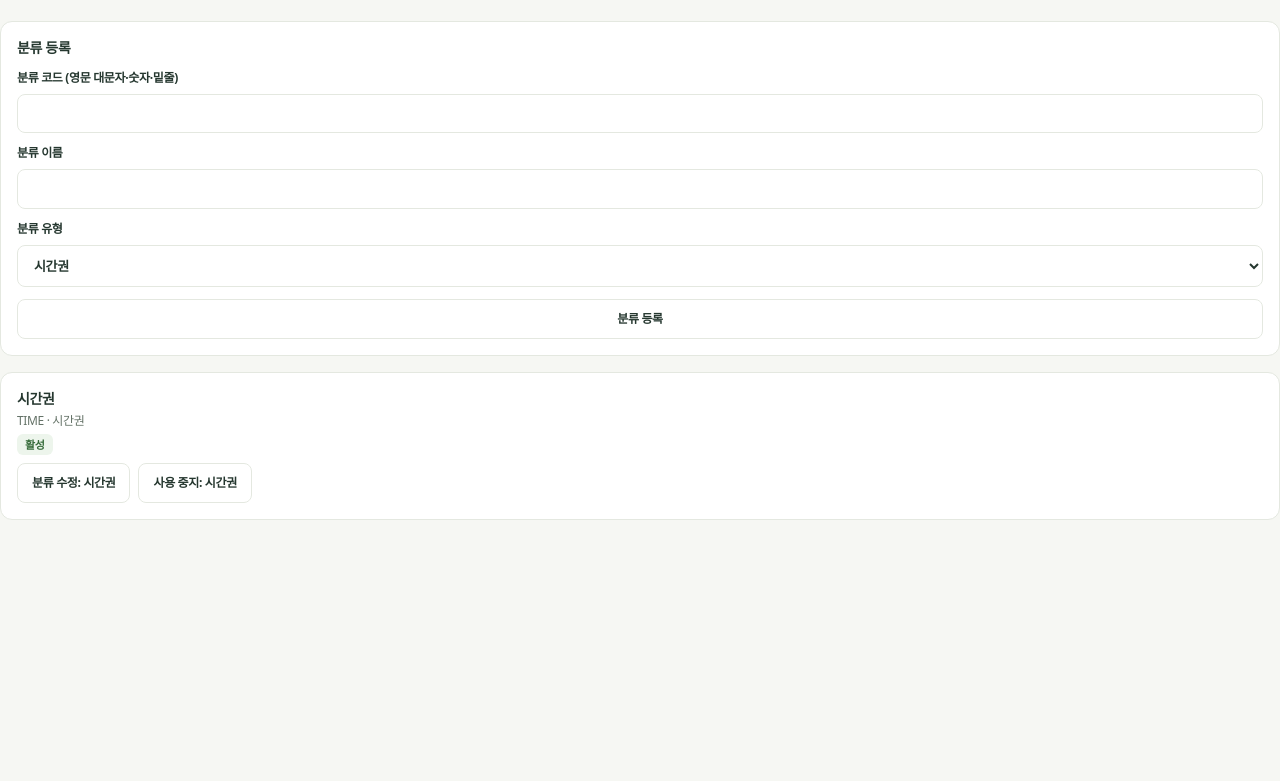
Scenario: preserves a conflicted draft and saves its name against the explicitly loaded version only
The width and height of the screenshot is (1280, 781).
Click the button "분류 수정: 시간권" at x=74, y=483, box [17,463,130,503]
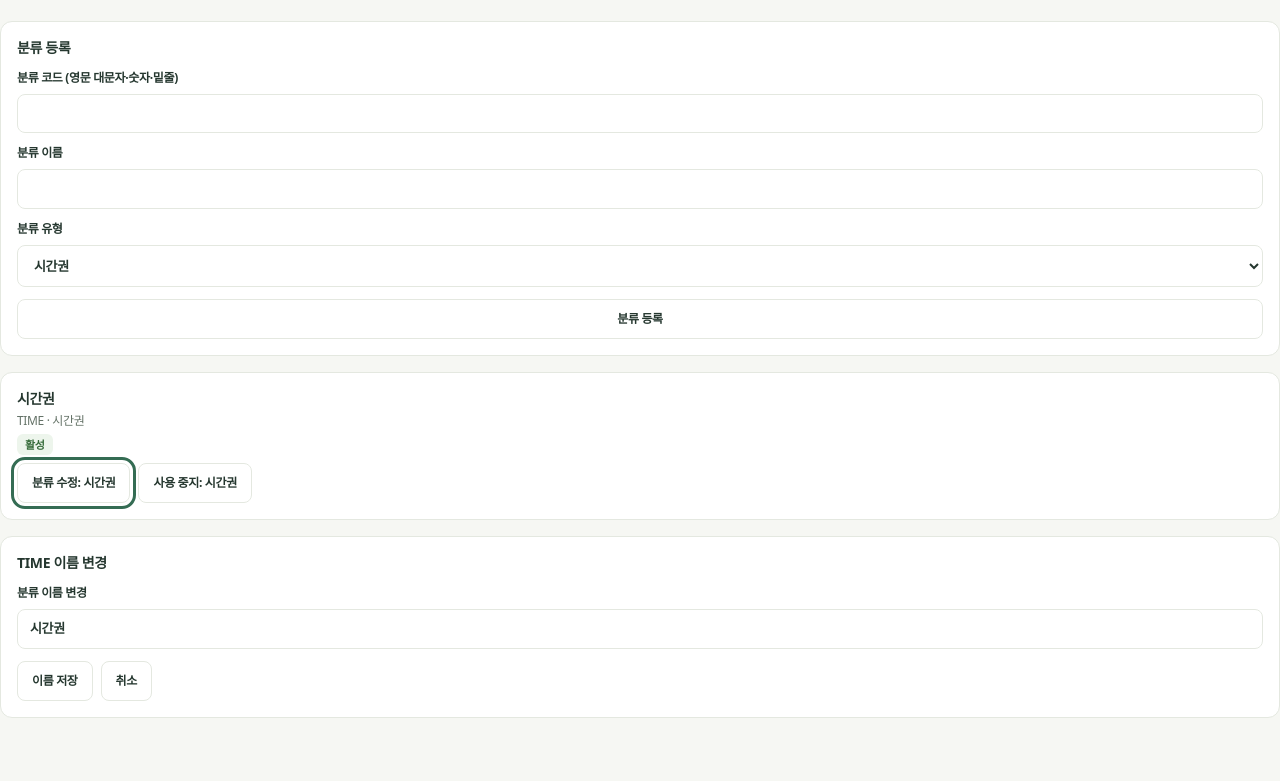
Replace the text in the field labelled "분류 이름 변경" with "내가 작성한 이름" at x=640, y=629, box [17,609,1263,649]
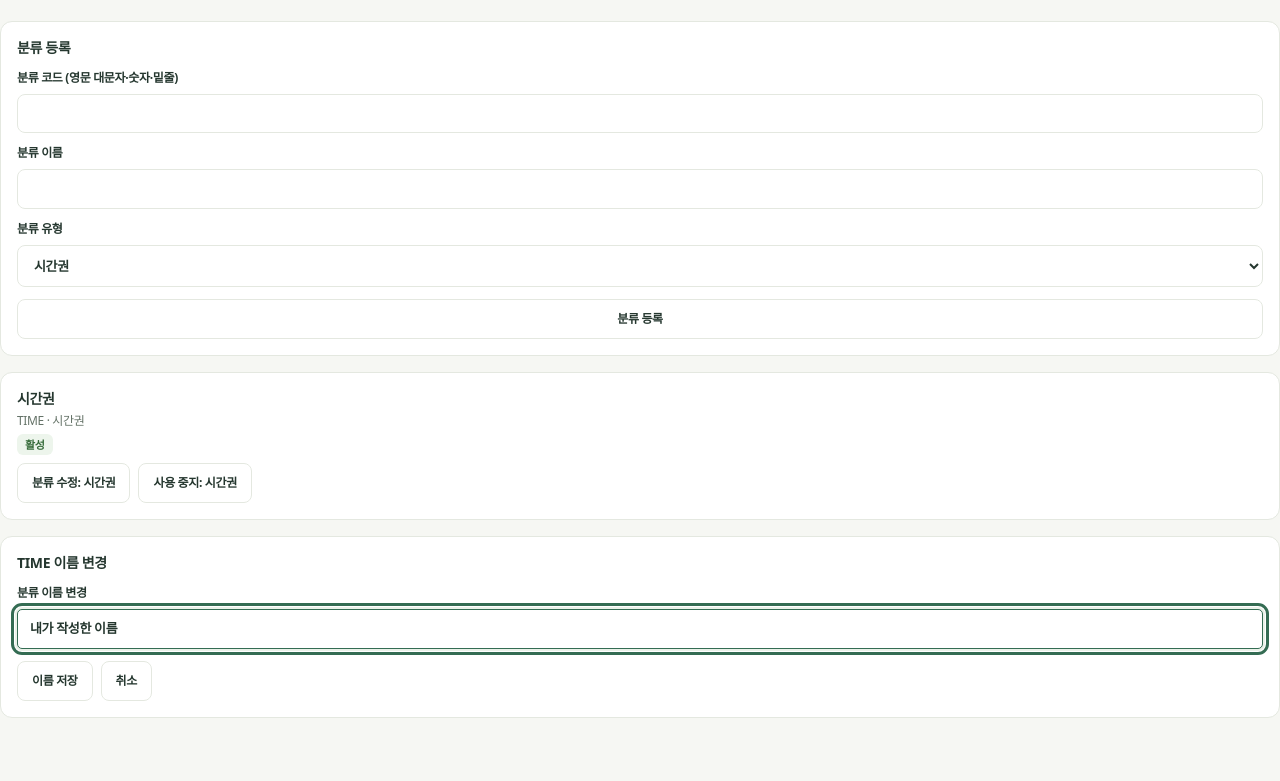
Click the button "이름 저장" at x=55, y=681, box [17,661,92,701]
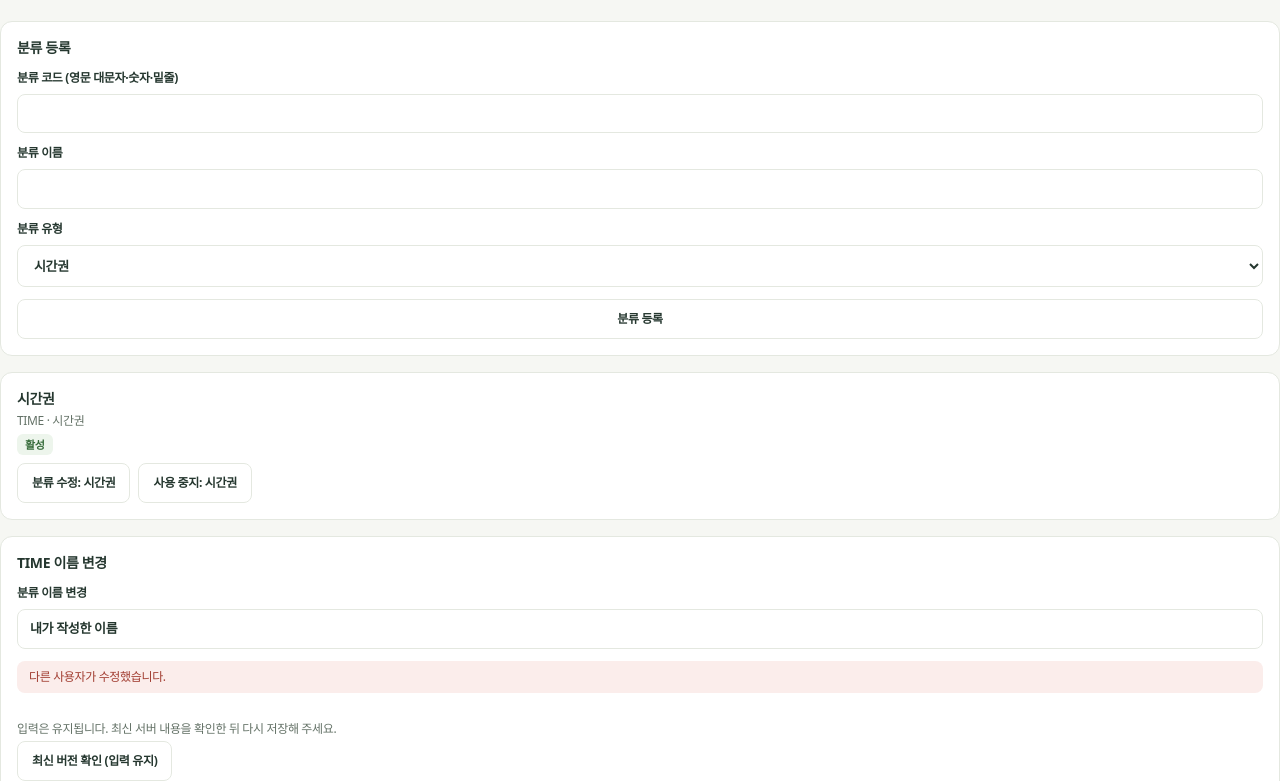
Now the text "다른 사용자가 수정했습니다." is shown, box [17,661,1263,693]
Click the button "최신 버전 확인 (입력 유지)" at x=95, y=761, box [17,741,172,780]
(page scrolled)
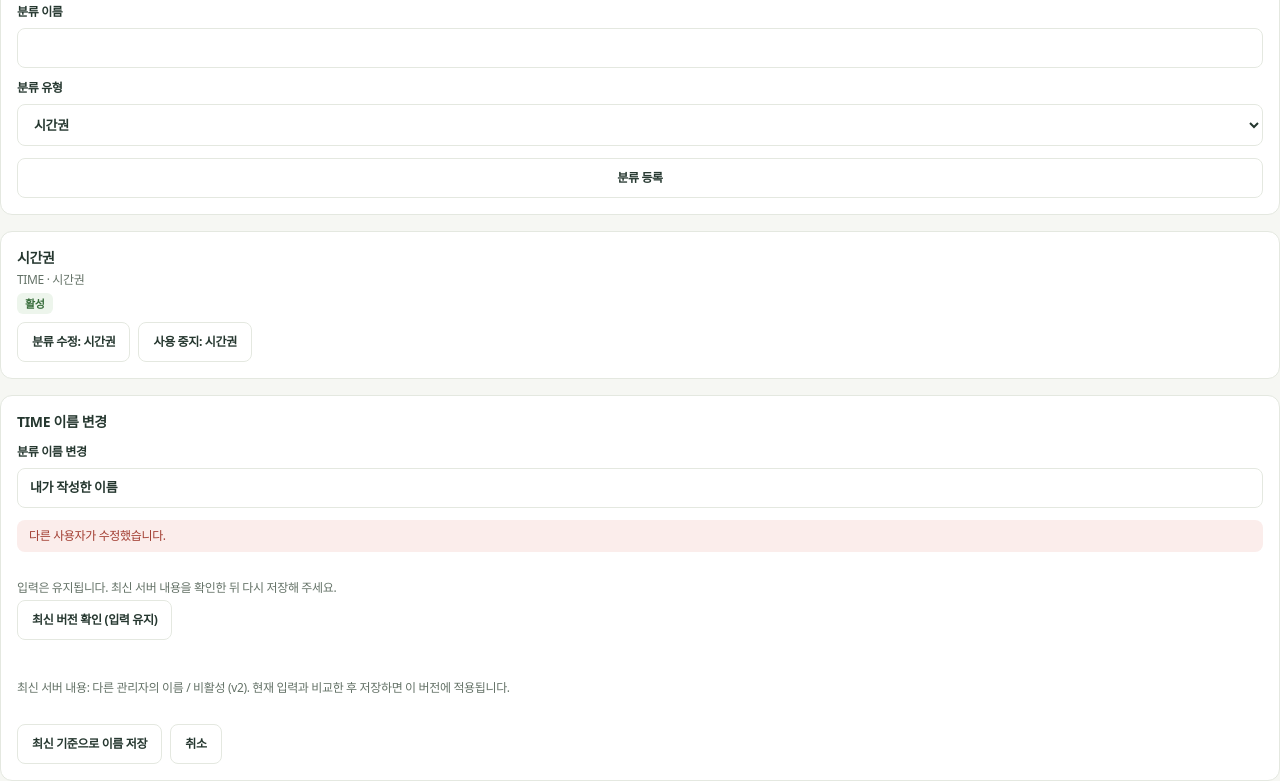
Now the message "최신 서버 내용: 다른 관리자의 이름 / 비활성 (v2). 현재 입력과 비교한 후 저장하면 이 버전에 적용됩니다." is shown, box [17,679,510,696]
Click the button "최신 기준으로 이름 저장" at x=90, y=744, box [17,724,162,764]
(page scrolled)
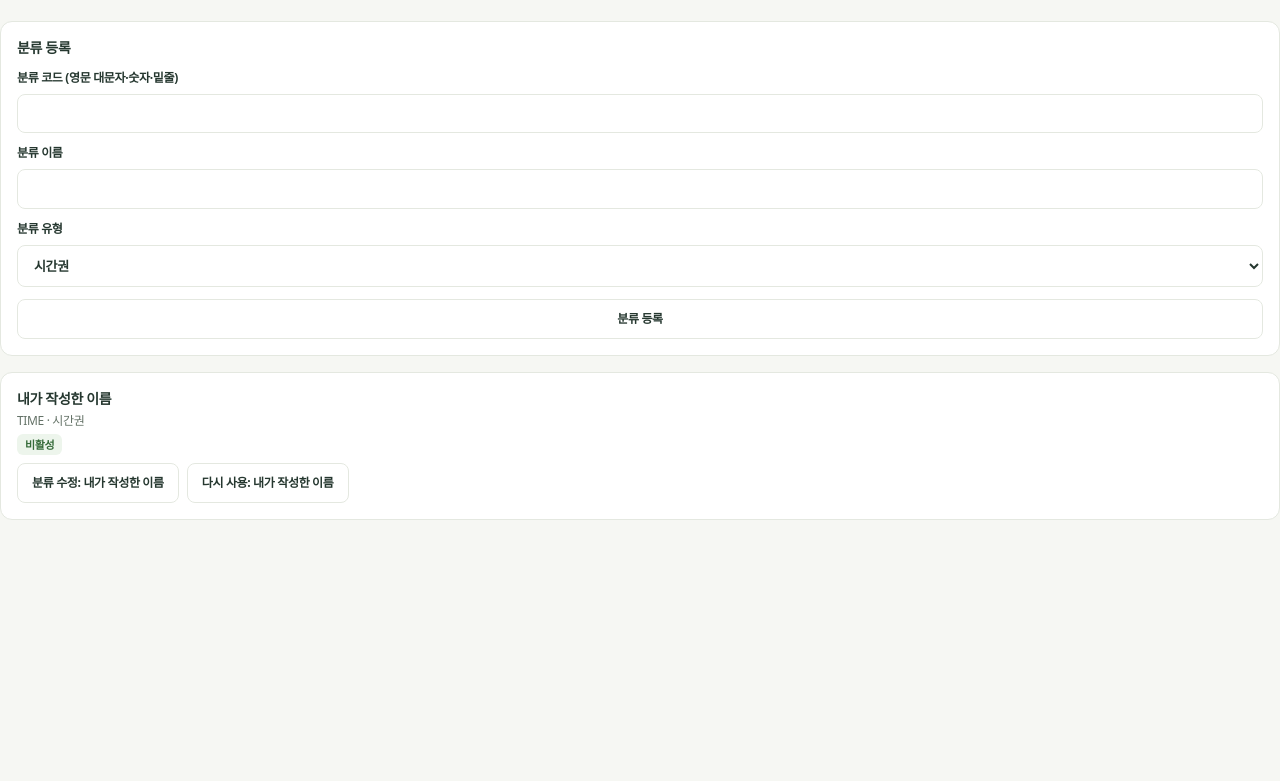
Now the text "비활성" is shown, box [17,434,62,455]
